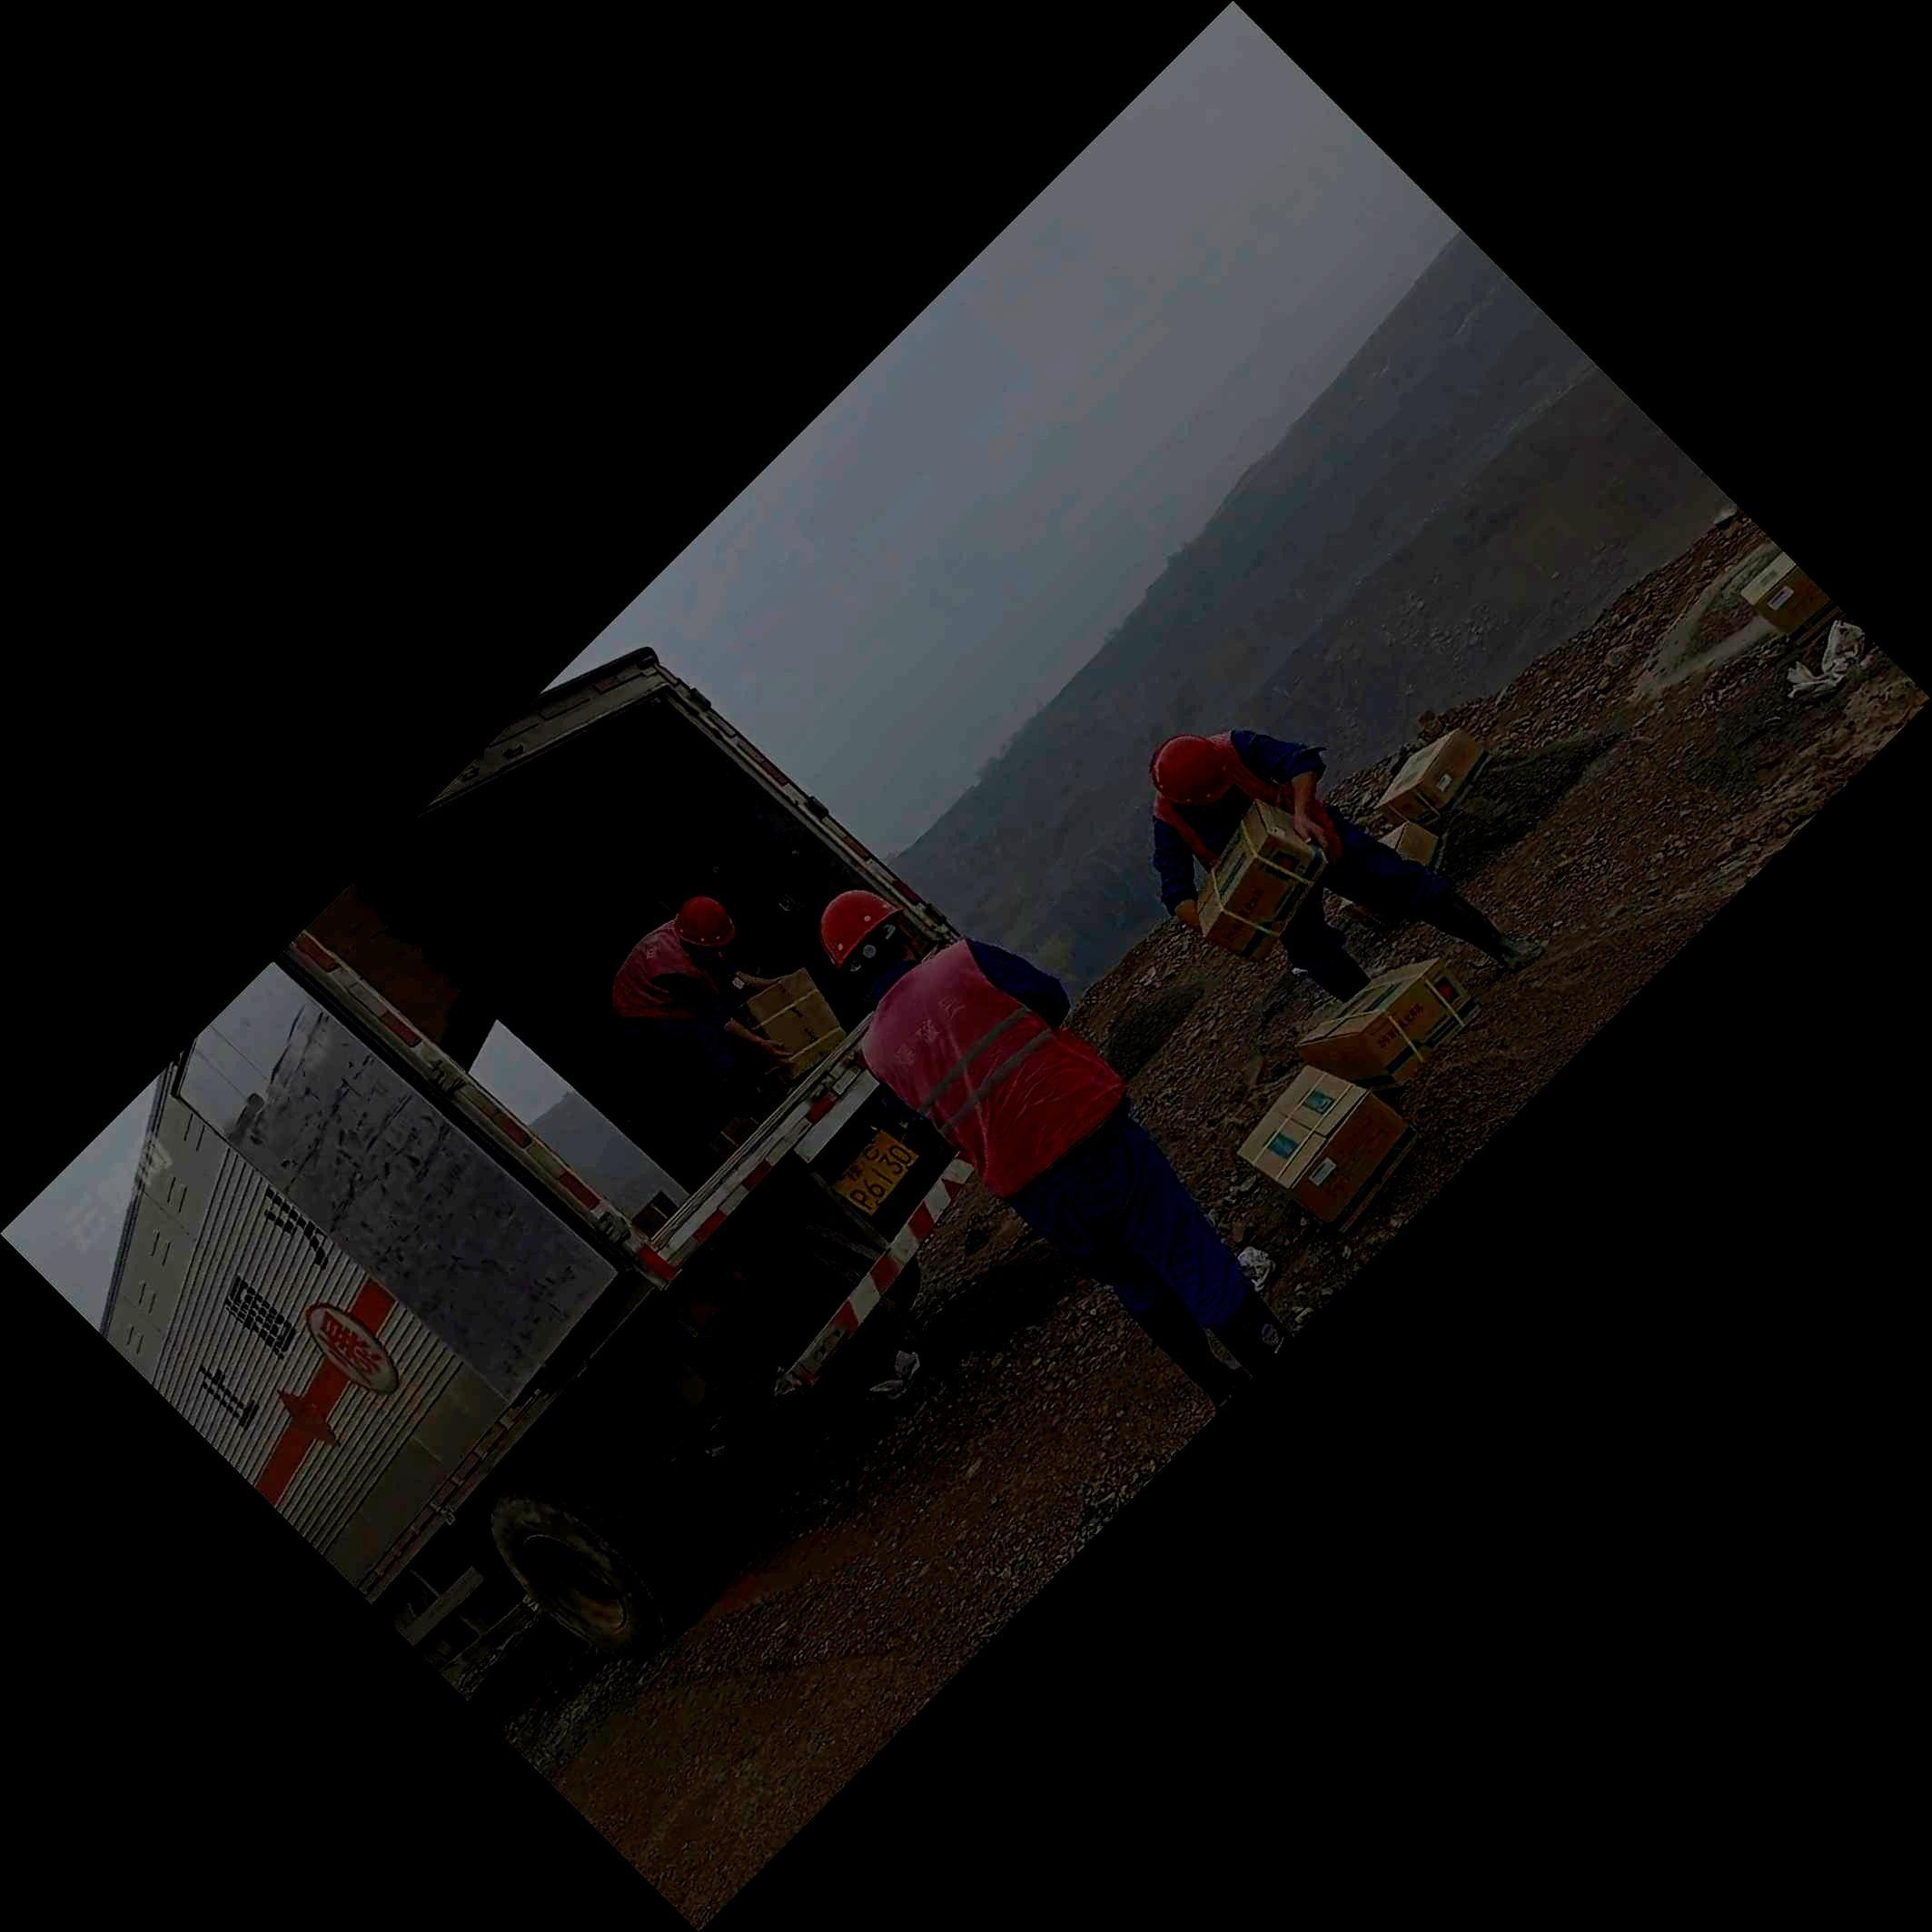helmet: (819, 890, 916, 977), (1148, 732, 1237, 807), (672, 895, 734, 957)
